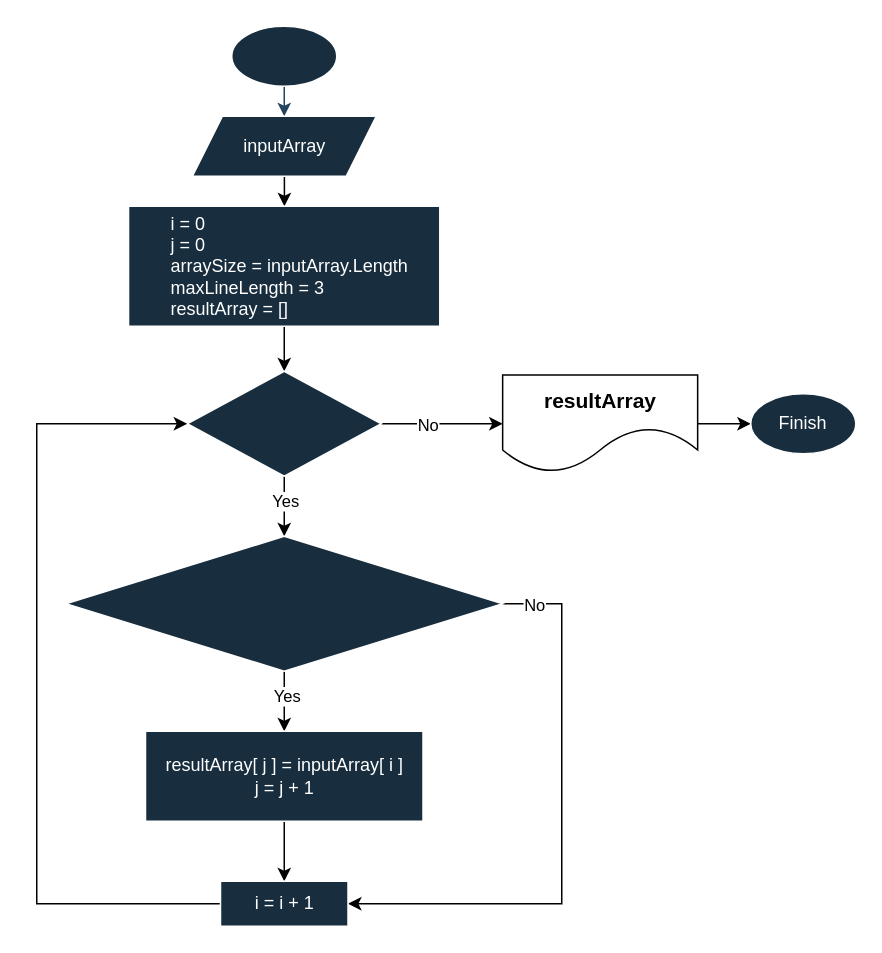
The diagram is 882 pixels wide and 953 high, and some of its shapes have lost their labels. Each missing label, with the centre of its shape:
i < arraySize: pixel 283 423
inputArray[ i ].Length <= maxLineLength: pixel 283 603
Start: pixel 283 55
